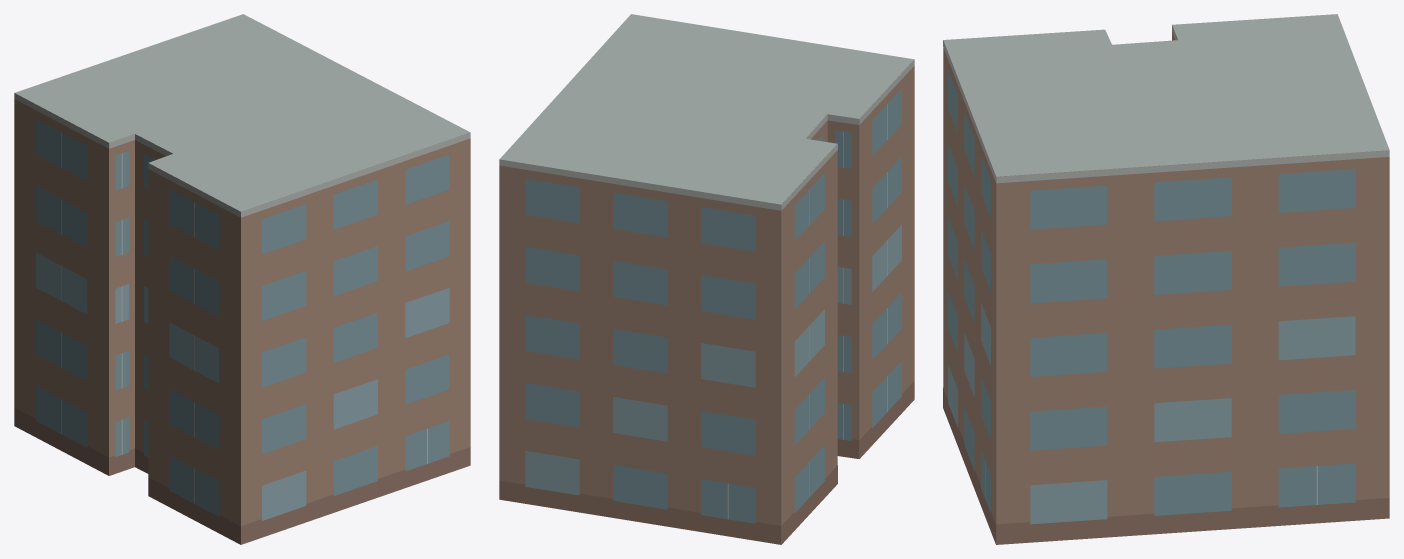
File: survey-upis-32570206.glb
3 views of the same model, side by side, from view 1: azimuth 30°, elevation 25°; view 2: azimuth 150°, elevation 25°; view 3: azimuth 270°, elevation 25° (orthographic). The views are drawn at different scales.
Visible parts, largest first — view 1: survey-upis-32570206.tmp; view 2: survey-upis-32570206.tmp; view 3: survey-upis-32570206.tmp.
Boxes of the visible parts, bbox=[...] form: survey-upis-32570206.tmp: bbox=[14, 14, 470, 544]; survey-upis-32570206.tmp: bbox=[499, 14, 914, 544]; survey-upis-32570206.tmp: bbox=[943, 14, 1389, 544].
Size of the model in its own units: 12.8 by 13.5 by 14.85.
